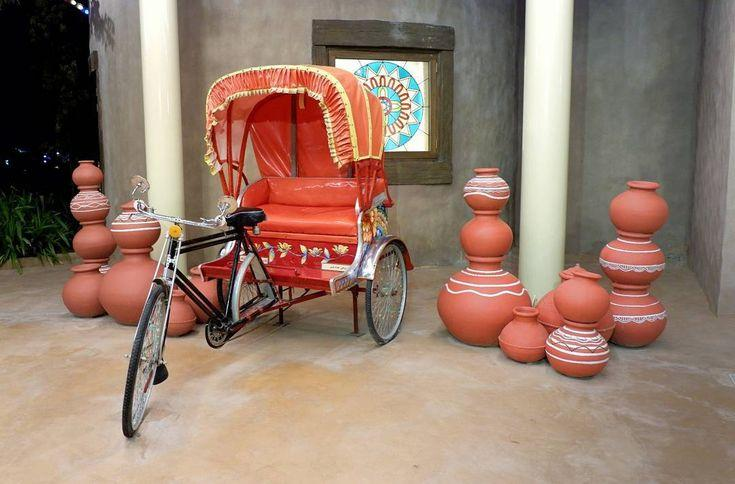Rickshaw: (123, 65, 411, 436)
